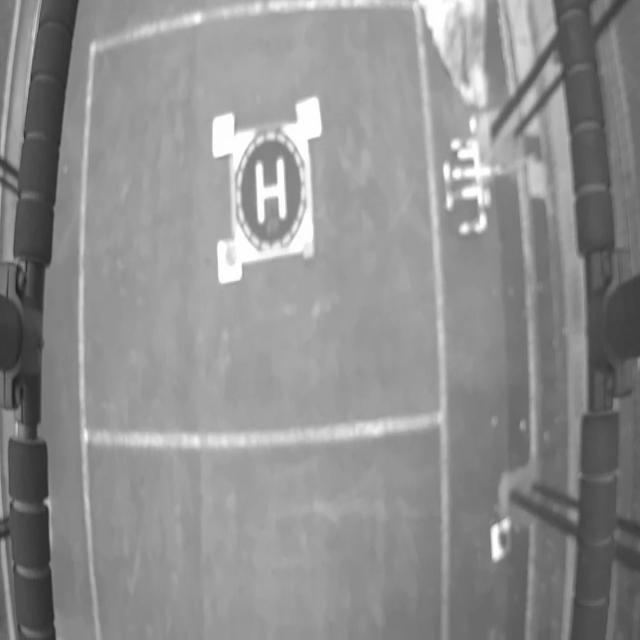Helipad: (255, 157, 288, 224)
